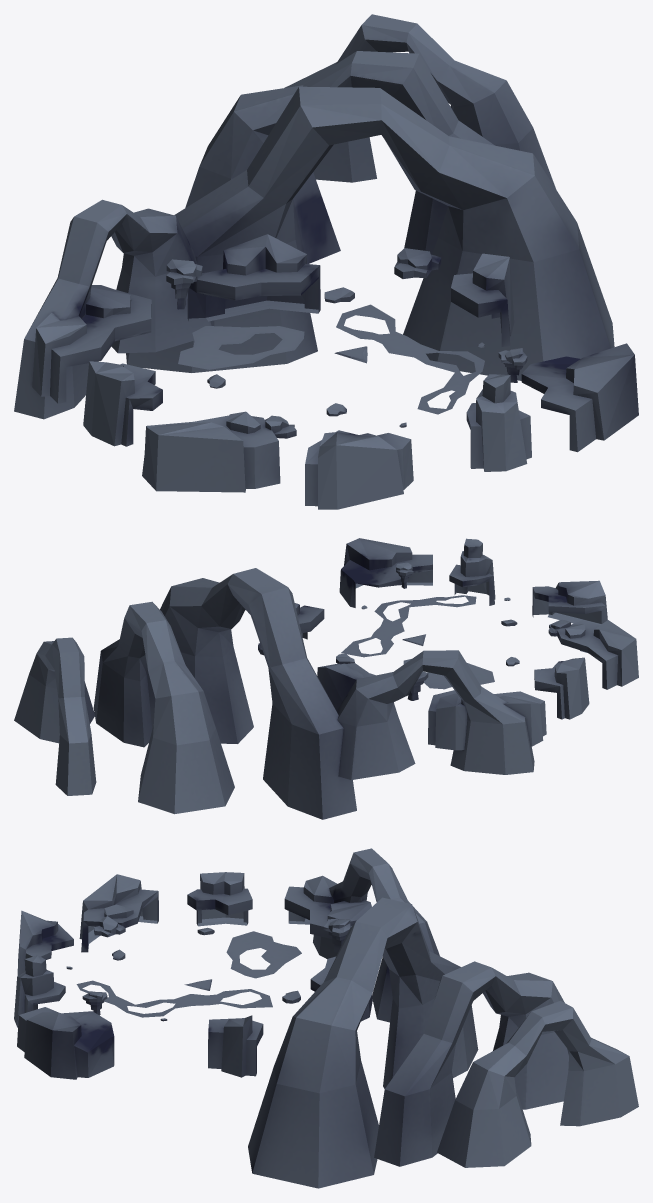
The model's file is Stone_01.FBX.
3 renders of one model, top to bottom at view 1: azimuth 30°, elevation 25°; view 2: azimuth 150°, elevation 25°; view 3: azimuth 270°, elevation 25°, orthographic. The views are drawn at different scales.
Visible parts, largest first — view 1: Stone_01; view 2: Stone_01; view 3: Stone_01.
Boxes of the visible parts, x1,y1,x2,y2 form: Stone_01: (14,14,638,509); Stone_01: (14,538,638,819); Stone_01: (14,848,638,1188).
Size of the model in its own units: 39.15 by 15.12 by 44.23.
